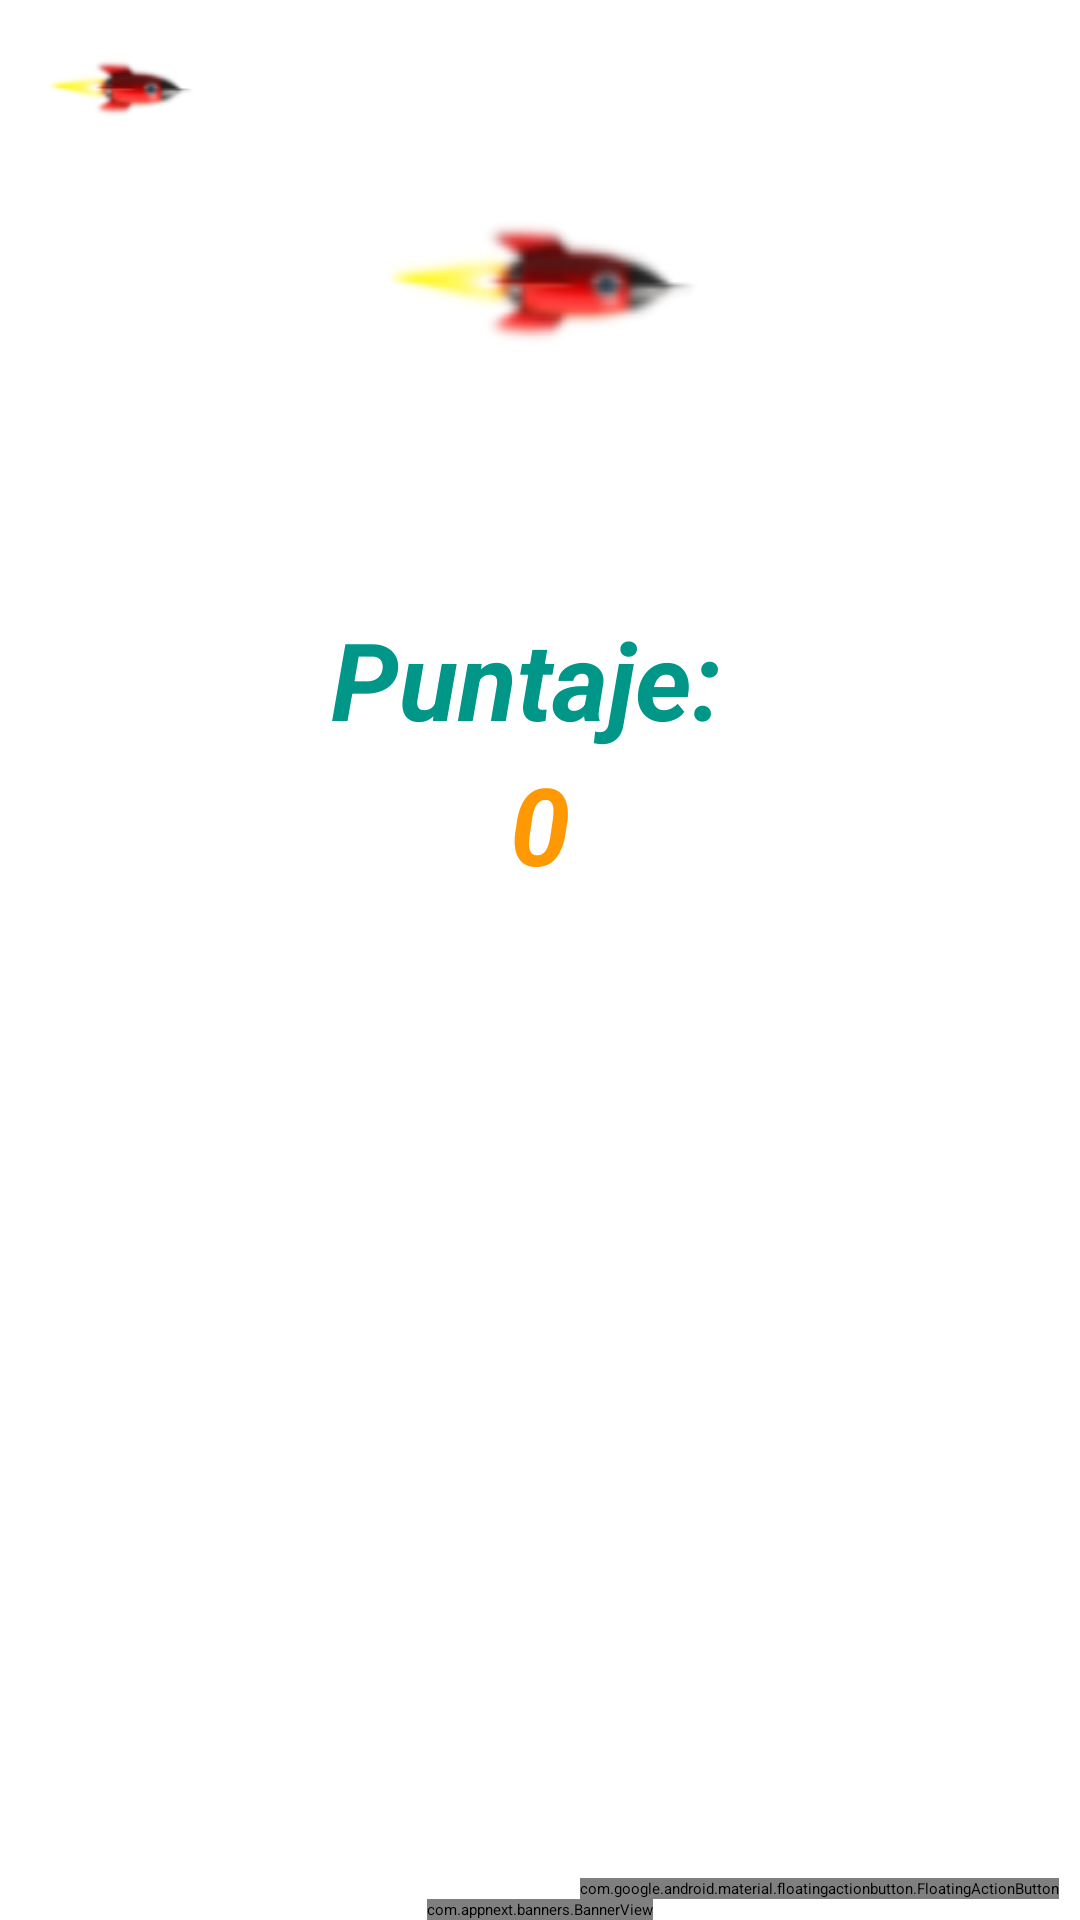

Icon bounding boxes for this 1080 x 1920 phone screenshot, format (x1, y1, x2, y2):
nave: (51, 62, 189, 113), (392, 228, 687, 337)
